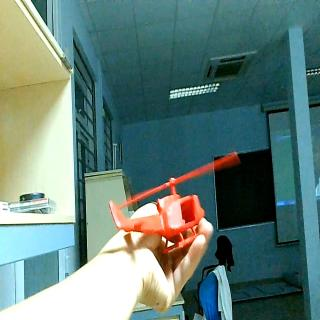Helicopter: (106, 177, 206, 254)
